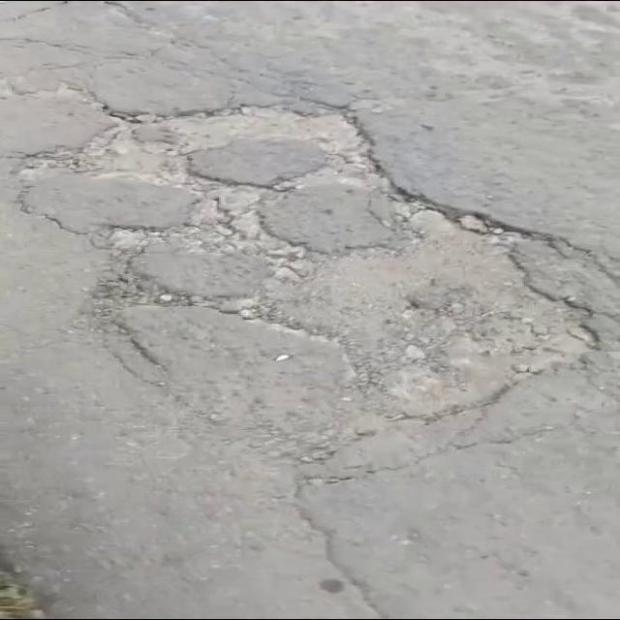lubang: (18, 108, 586, 435)
